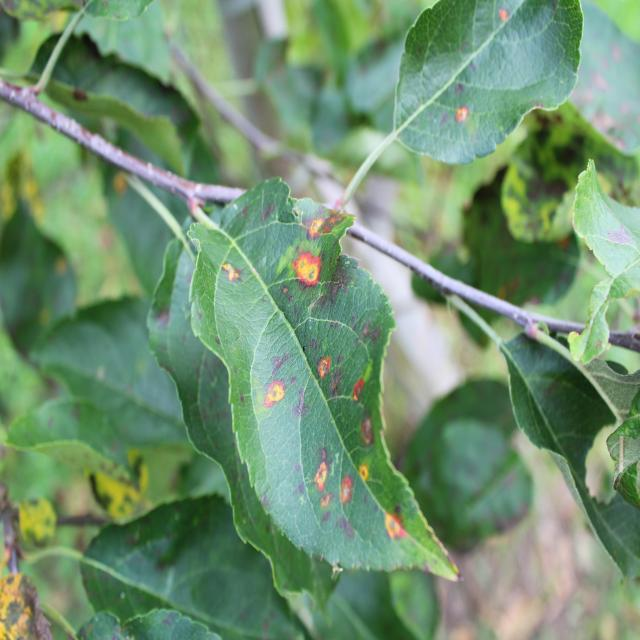Rust: (294, 205, 343, 247), (334, 462, 364, 520), (287, 244, 323, 292), (313, 338, 339, 397), (379, 505, 406, 558), (222, 251, 249, 299), (309, 444, 331, 502), (449, 98, 484, 132), (258, 375, 288, 408), (358, 413, 374, 452), (493, 6, 520, 28), (360, 454, 380, 482), (350, 374, 368, 405)
